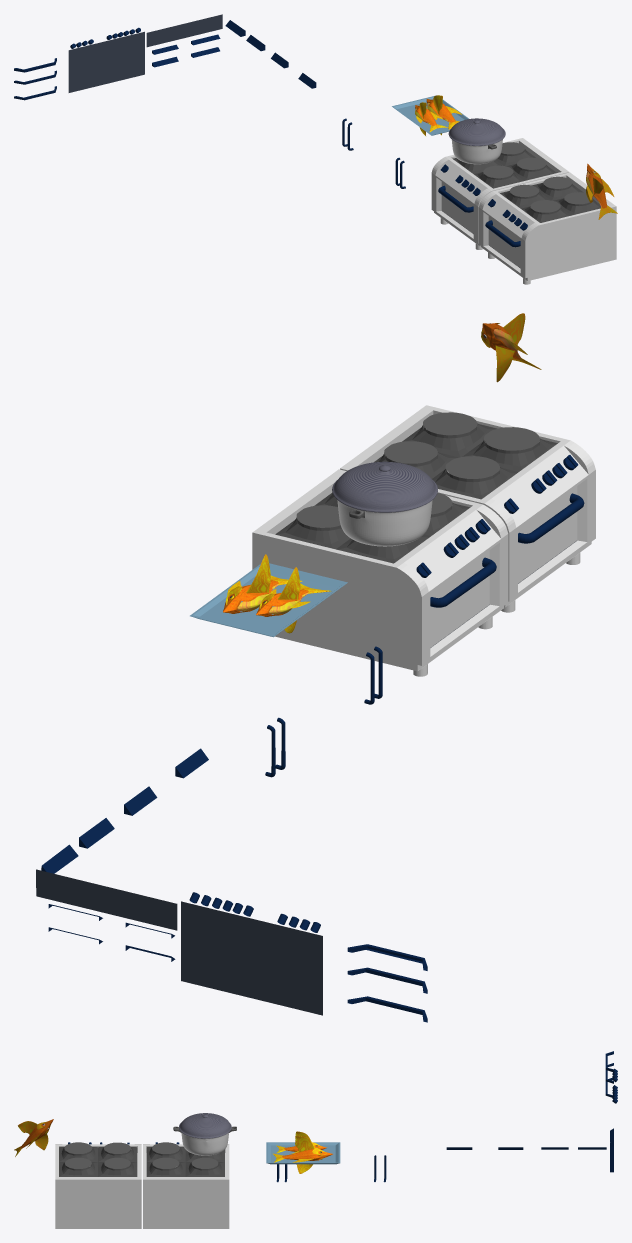
File: Digital art assignment 2.fbx
3 views of the same model, one above another, from view 1: azimuth 30°, elevation 25°; view 2: azimuth 150°, elevation 25°; view 3: azimuth 270°, elevation 25° (orthographic). The views are drawn at different scales.
Visible parts, largest first — view 1: Four Plate Stove 2, Four Plate Stove 1, Stove frames.004, Pot Lid, Stove frames.003, Pot, Tray.001, Fish Cooked, Handles 3, Handles 2, Fish, Handles 1 (+1 smaller); view 2: Four Plate Stove 1, Four Plate Stove 2, Stove frames.004, Pot Lid, Stove frames.003, Tray.001, Pot, Handles 3, Fish Cooked, Fish, Handles 1, Fish.001; view 3: Four Plate Stove 2, Four Plate Stove 1, Pot Lid, Tray.001, Pot, Fish, Fish Cooked, Handles 3.
Boxes of the visible parts, box(x1,y1,x2,y2) form: Four Plate Stove 2: box(478, 172, 616, 284); Four Plate Stove 1: box(431, 138, 569, 249); Stove frames.004: box(68, 31, 144, 92); Pot Lid: box(448, 118, 505, 145); Stove frames.003: box(146, 14, 222, 47); Pot: box(451, 139, 502, 164); Tray.001: box(392, 95, 468, 135); Fish Cooked: box(586, 163, 617, 219); Handles 3: box(225, 20, 316, 88); Handles 2: box(152, 34, 220, 67); Fish: box(426, 95, 461, 135); Handles 1: box(14, 58, 56, 100); Four Plate Stove 1: box(252, 469, 508, 676); Four Plate Stove 2: box(340, 405, 595, 612); Stove frames.004: box(181, 901, 322, 1015); Pot Lid: box(332, 461, 437, 512); Stove frames.003: box(36, 869, 177, 930); Tray.001: box(190, 563, 347, 637); Pot: box(337, 468, 432, 546); Handles 3: box(41, 748, 208, 873); Fish Cooked: box(481, 313, 541, 382); Fish: box(223, 554, 302, 613); Handles 1: box(347, 944, 427, 1022); Fish.001: box(256, 567, 331, 633); Four Plate Stove 2: box(55, 1142, 141, 1228); Four Plate Stove 1: box(143, 1142, 229, 1228); Pot Lid: box(179, 1113, 231, 1138); Tray.001: box(266, 1142, 340, 1164); Pot: box(173, 1126, 236, 1155); Fish: box(273, 1136, 332, 1173); Fish Cooked: box(14, 1119, 53, 1156); Handles 3: box(446, 1147, 606, 1149).
Size of the model in its own units: 1957 by 686 by 3655.
Materials: 20 (16 with a texture image).
